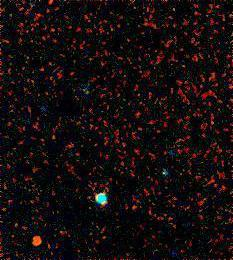star: (25, 226, 55, 256)
